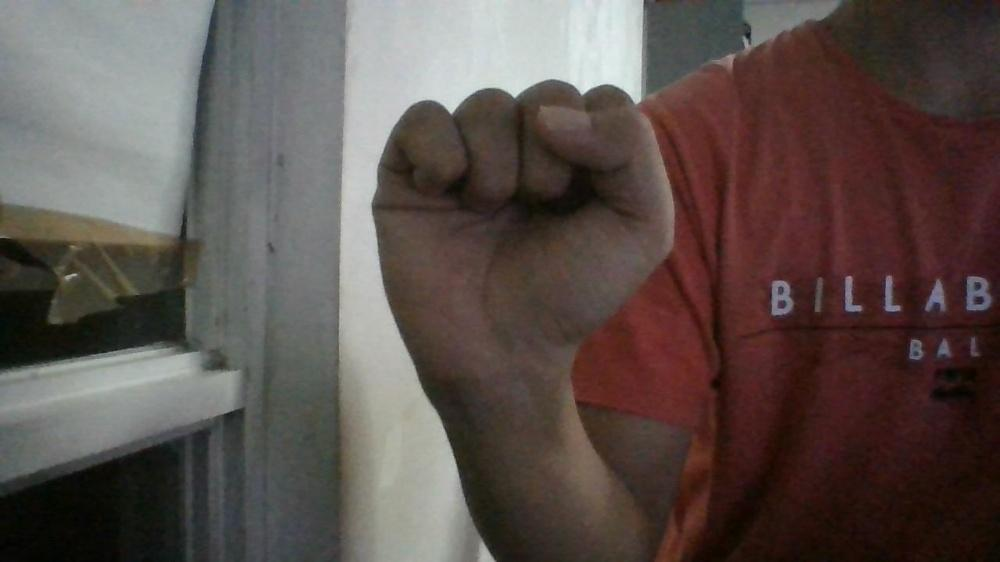s: (368, 74, 677, 378)
